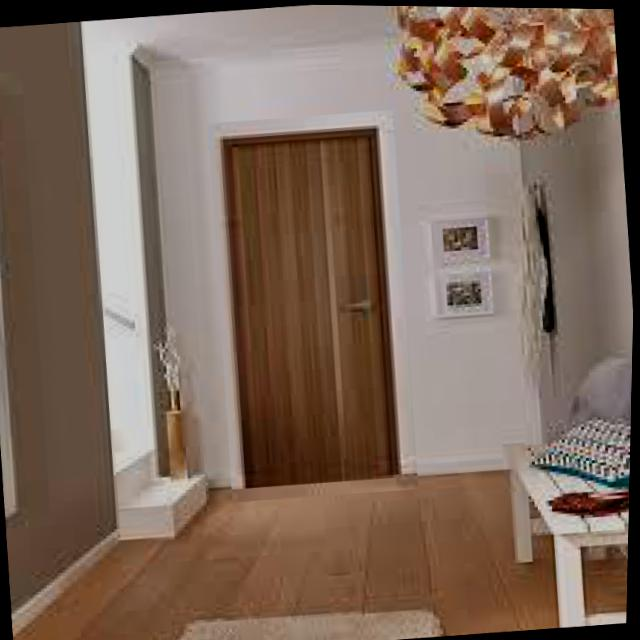close: (201, 106, 428, 505)
